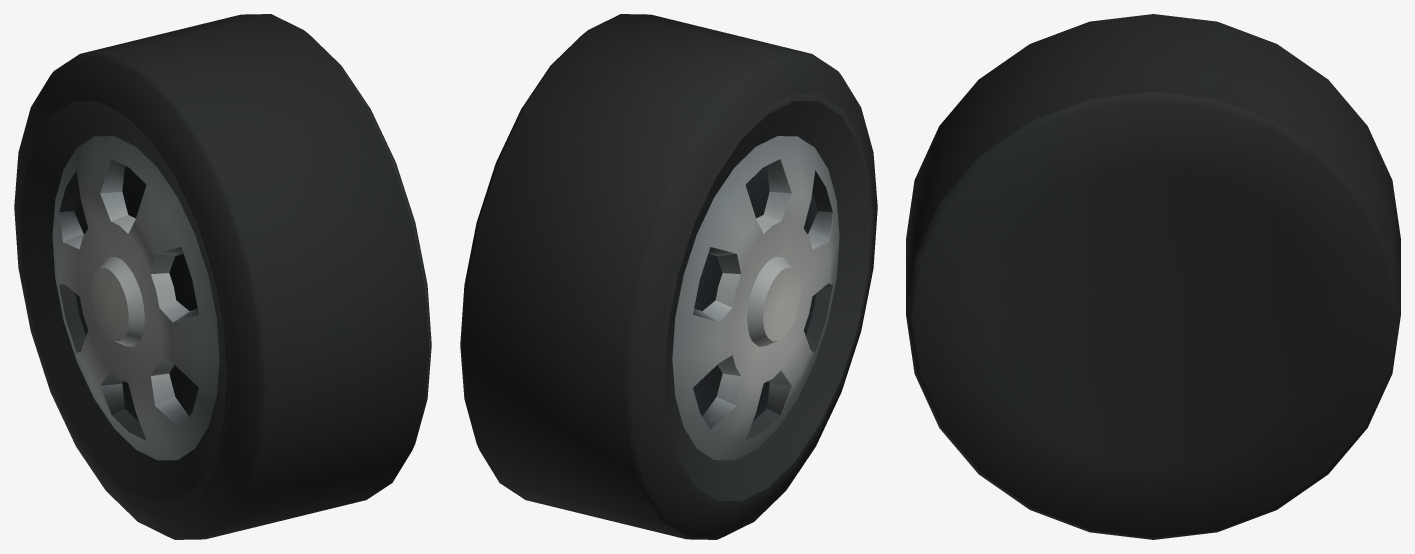
File: Car_022_lunzi_FR.FBX
The picture shows the model from 3 angles, left to right: view 1: azimuth 30°, elevation 25°; view 2: azimuth 150°, elevation 25°; view 3: azimuth 270°, elevation 25°; orthographic projection.
Parts seen in each view (by area): view 1: Car_022_lunzi_FR; view 2: Car_022_lunzi_FR; view 3: Car_022_lunzi_FR.
Boxes of the visible parts, box(x1,y1,x2,y2) form: Car_022_lunzi_FR: box(14, 14, 431, 539); Car_022_lunzi_FR: box(460, 14, 877, 539); Car_022_lunzi_FR: box(906, 14, 1400, 539).
Size of the model in its own units: 20.12 by 43.72 by 43.72.
1 material, 1 textured.
